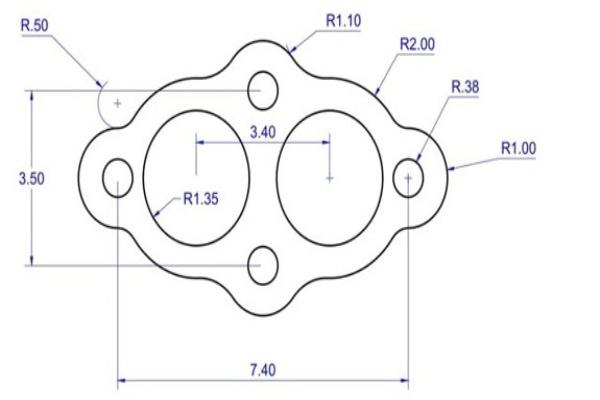dimensions: (396, 29, 441, 54), (498, 133, 540, 158), (16, 9, 53, 37), (178, 188, 225, 210), (245, 358, 281, 382), (247, 120, 282, 143), (324, 8, 362, 29), (446, 77, 487, 96), (15, 169, 52, 188)
